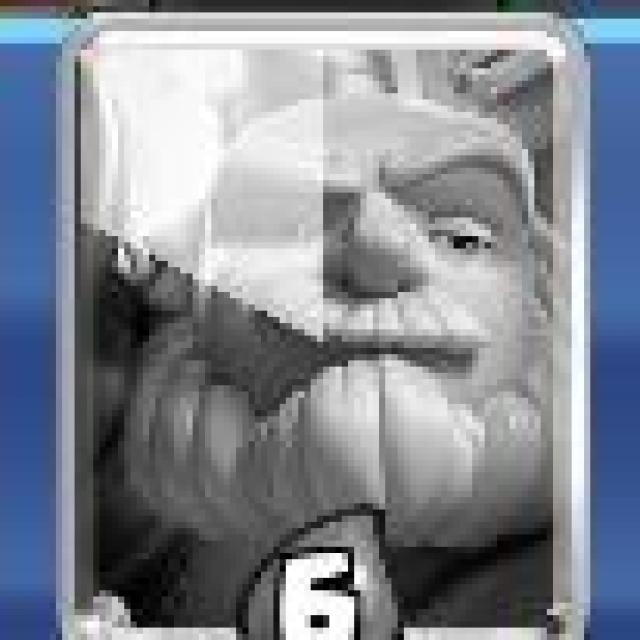Royal_Giant: (59, 17, 582, 640)
